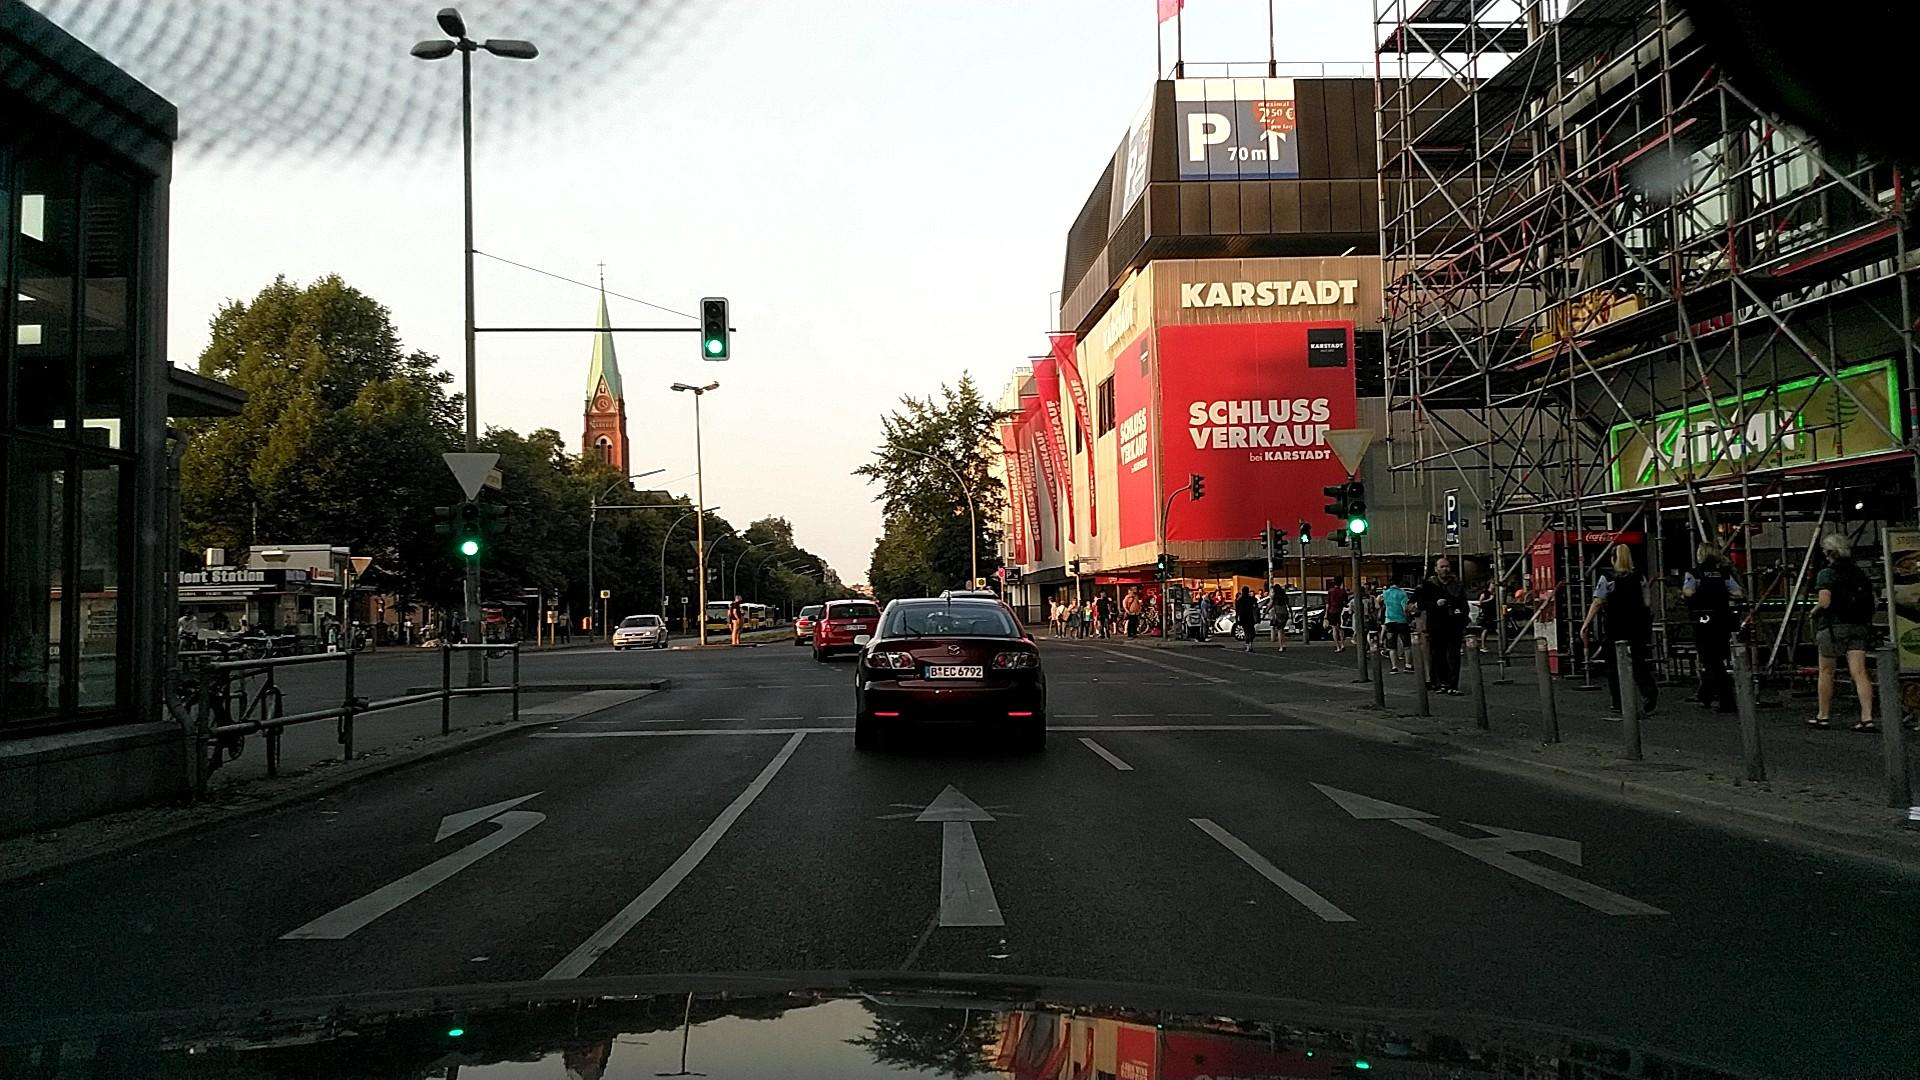Human face: (1820, 536, 1841, 563), (1695, 543, 1718, 564), (1610, 546, 1628, 572), (1435, 558, 1452, 579), (1488, 579, 1497, 590), (735, 595, 742, 603), (1129, 586, 1137, 594), (1100, 591, 1106, 599)
Vehicle registration plate: (924, 665, 983, 679), (844, 625, 867, 630)
